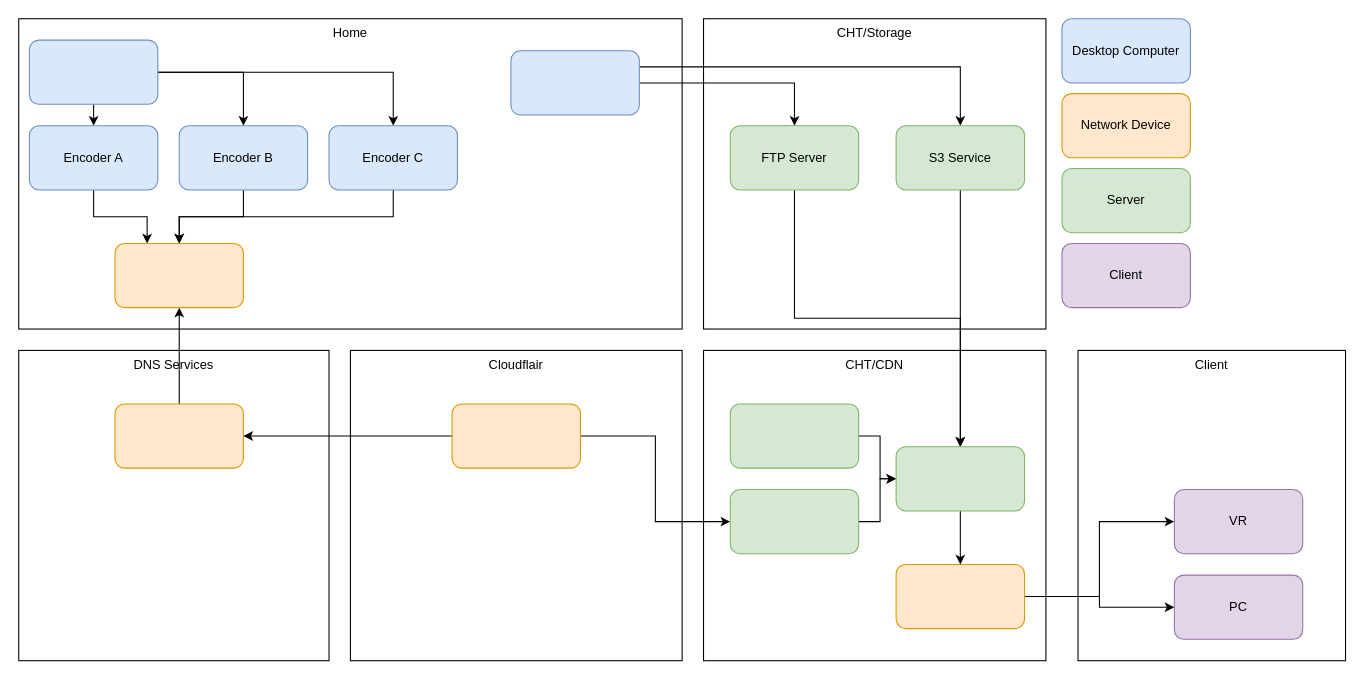
Some shapes in this 1364 by 679 pixel diagram are drawn without their labels. Each missing label, with the centre of its shape:
"CDN Services" goes at pixel 960 478.
"Domain xxx" goes at pixel 178 435.
"End Nodes" goes at pixel 960 596.
"FileUpload" goes at pixel 574 82.
"Live/Video Streaming" goes at pixel 794 521.
"Proxy Protection" goes at pixel 515 435.
"Router" goes at pixel 178 275.
"Source" goes at pixel 93 71.
"VOD/File Download" goes at pixel 794 435.
